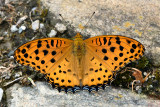Argyreus hyperbius: (10, 10, 146, 93)
butterfly: (12, 12, 148, 95)
